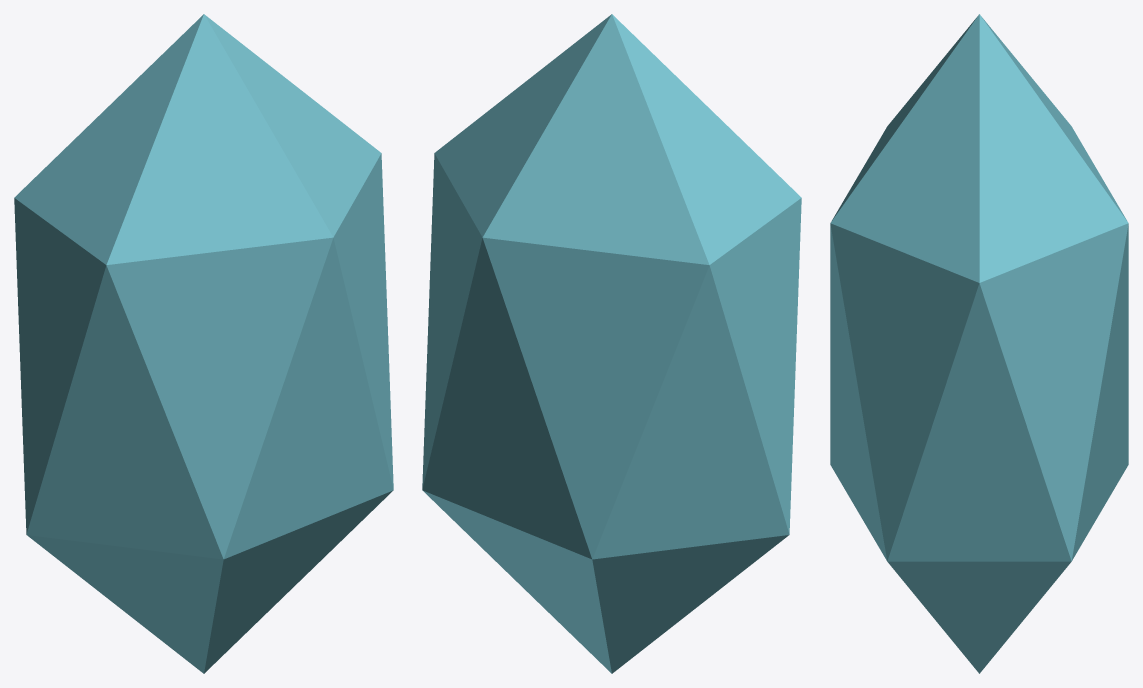
File: SM_IceShard_02.glb
3 views of the same model, side by side, from view 1: azimuth 30°, elevation 25°; view 2: azimuth 150°, elevation 25°; view 3: azimuth 270°, elevation 25° (orthographic).
Visible parts, largest first — view 1: SM_IceShard_02; view 2: SM_IceShard_02; view 3: SM_IceShard_02.
Part boxes in pixels (box(x1,y1,x2,y2)): SM_IceShard_02: box(14, 14, 393, 673); SM_IceShard_02: box(422, 14, 801, 673); SM_IceShard_02: box(830, 14, 1128, 673).
Size of the model in its own units: 0.3041 by 0.54 by 0.2212.
